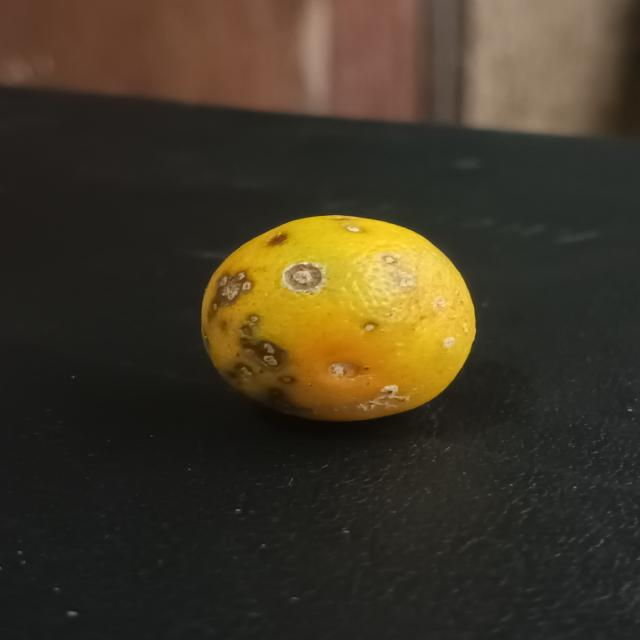black spot: (194, 213, 486, 427)
